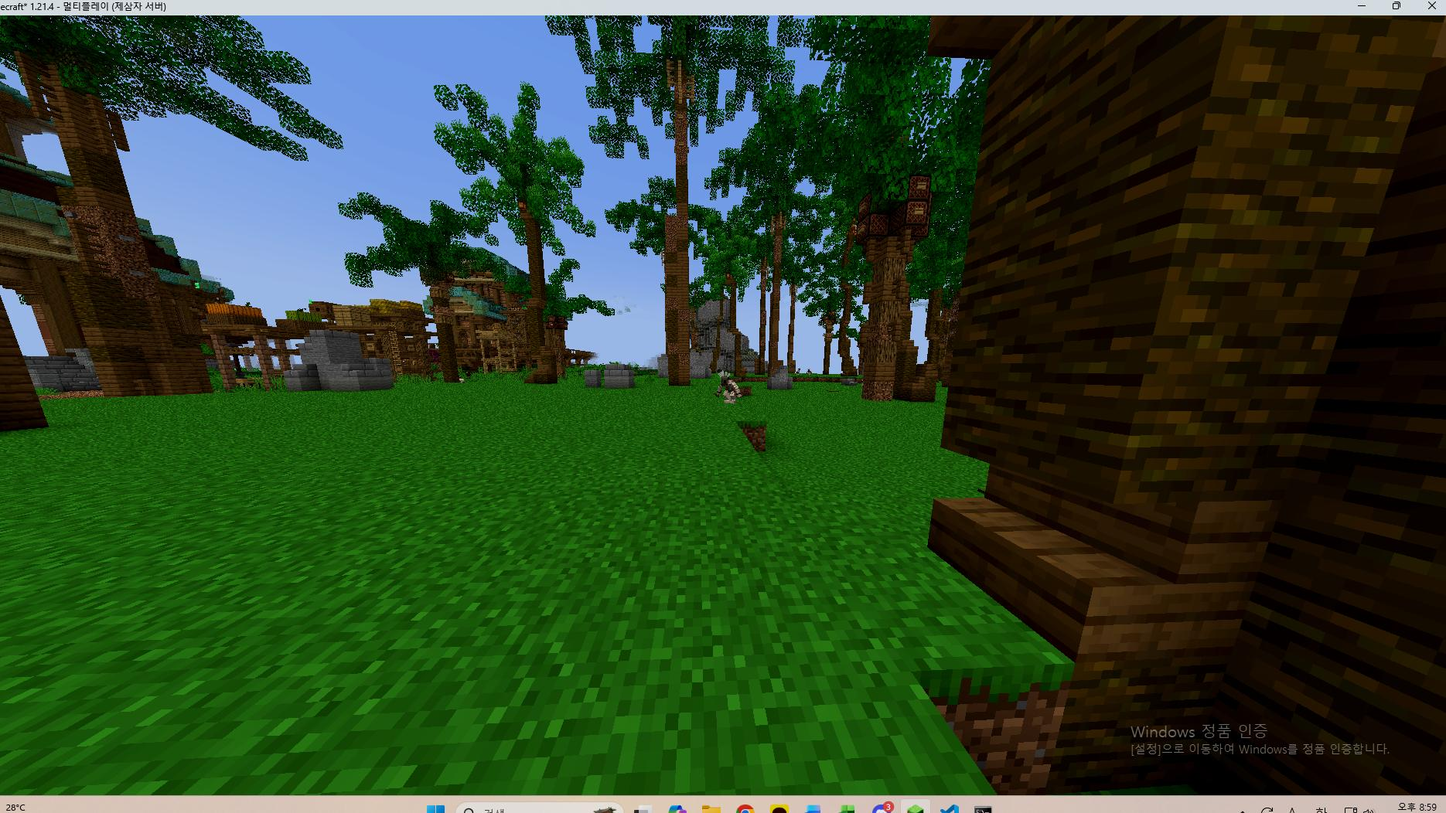bow_indian: (711, 366, 757, 417)
